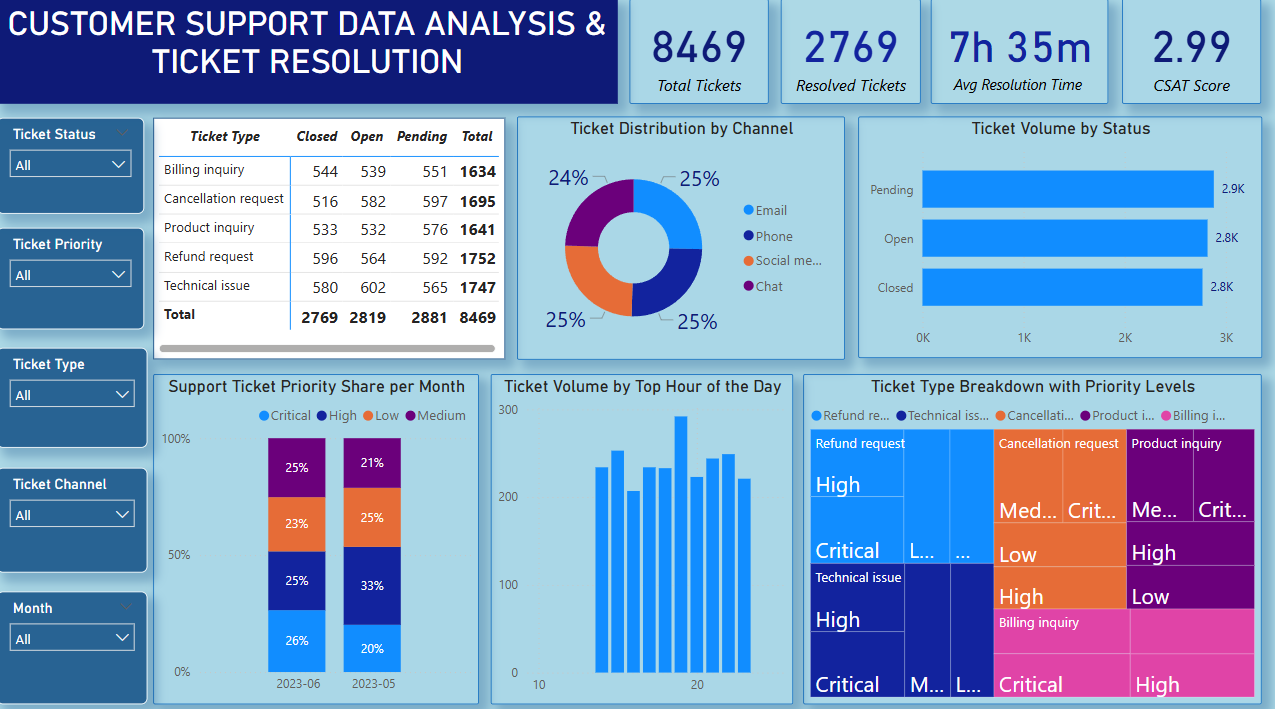

This screenshot's page, from the dashboard's own definition file:
{"tool":"powerbi","page":{"name":"Page 1","canvas":[1280,720],"ordinal":0},"visuals":[{"type":"card","fields":{"Values":["CountNonNull(customer_support_tickets.Ticket ID)"]},"box":[632,0,138.9,105.1],"z":1000},{"type":"card","fields":{"Values":["customer_support_tickets.Resolved Tickets"]},"box":[783.4,0,140.2,105.1],"z":2000},{"type":"card","fields":{"Values":["customer_support_tickets.Avg Resolution Time (HH:mm)"]},"box":[933.6,0,177.7,105.1],"z":3000},{"type":"card","fields":{"Values":["customer_support_tickets.CSAT Score"]},"box":[1125.1,0,138.9,105.1],"z":4000},{"type":"textbox","box":[0,0,620.7,105.1],"z":5000},{"type":"clusteredBarChart","title":"Ticket Volume by Status","fields":{"Category":["customer_support_tickets.Ticket Status"],"Y":["CountNonNull(customer_support_tickets.Ticket ID)"]},"box":[860.8,117.7,403.8,241.8],"z":6000},{"type":"donutChart","title":"Ticket Distribution by Channel","fields":{"Category":["customer_support_tickets.Ticket Channel"],"Y":["CountNonNull(customer_support_tickets.Ticket ID)"]},"box":[520.3,117.7,327.8,243],"z":7000},{"type":"pivotTable","title":"Ticket Breakdown by Type Across Status","fields":{"Rows":["customer_support_tickets.Ticket Type"],"Columns":["customer_support_tickets.Ticket Status"],"Values":["CountNonNull(customer_support_tickets.Ticket ID)"]},"box":[155.7,119,351.9,241.8],"z":8000},{"type":"treemap","title":"Ticket Type Breakdown with Priority Levels","fields":{"Group":["customer_support_tickets.Ticket Type"],"Values":["CountNonNull(customer_support_tickets.Ticket ID)"],"Details":["customer_support_tickets.Ticket Priority"]},"box":[806.3,374.7,458.2,330.4],"z":9000},{"type":"hundredPercentStackedColumnChart","title":"Support Ticket Priority Share per Month","fields":{"Category":["customer_support_tickets.TicketMonth_Clean"],"Series":["customer_support_tickets.Ticket Priority"],"Y":["CountNonNull(customer_support_tickets.Ticket ID)"]},"box":[155.7,374.7,325.3,330.4],"z":10000},{"type":"slicer","fields":{"Values":["customer_support_tickets.Ticket Status"]},"box":[0,119,146.8,96.2],"z":11000},{"type":"slicer","fields":{"Values":["customer_support_tickets.Ticket Priority"]},"box":[0,229.1,146.8,101.3],"z":12000},{"type":"slicer","fields":{"Values":["customer_support_tickets.Ticket Type"]},"box":[0,349.4,150.6,100],"z":13000},{"type":"slicer","fields":{"Values":["customer_support_tickets.Ticket Channel"]},"box":[0,468.4,150.6,105.1],"z":14000},{"type":"slicer","fields":{"Values":["customer_support_tickets.ResolvedMonth"]},"box":[0,592.4,150.6,112.7],"z":15000},{"type":"clusteredColumnChart","title":"Ticket Volume by Top Hour of the Day","fields":{"Category":["customer_support_tickets.TicketHour"],"Y":["CountNonNull(customer_support_tickets.Ticket ID)"]},"box":[493.7,374.7,302.5,330.4],"z":16000}]}

Visuals, with their boxes in screenshot pixels (x1, y1, x2, y2), scaled from the page's 1280x720 canvas onto the 1275x709 screenshot:
card - CountNonNull(customer_support_tickets.Ticket ID): (630,0,768,103)
card - customer_support_tickets.Resolved Tickets: (780,0,920,103)
card - customer_support_tickets.Avg Resolution Time (HH:mm): (930,0,1107,103)
card - customer_support_tickets.CSAT Score: (1121,0,1259,103)
textbox: (0,0,618,103)
"Ticket Volume by Status" clusteredBarChart: (857,116,1260,354)
"Ticket Distribution by Channel" donutChart: (518,116,845,355)
"Ticket Breakdown by Type Across Status" pivotTable: (155,117,506,355)
"Ticket Type Breakdown with Priority Levels" treemap: (803,369,1260,694)
"Support Ticket Priority Share per Month" hundredPercentStackedColumnChart: (155,369,479,694)
slicer - customer_support_tickets.Ticket Status: (0,117,146,212)
slicer - customer_support_tickets.Ticket Priority: (0,226,146,325)
slicer - customer_support_tickets.Ticket Type: (0,344,150,443)
slicer - customer_support_tickets.Ticket Channel: (0,461,150,565)
slicer - customer_support_tickets.ResolvedMonth: (0,583,150,694)
"Ticket Volume by Top Hour of the Day" clusteredColumnChart: (492,369,793,694)
